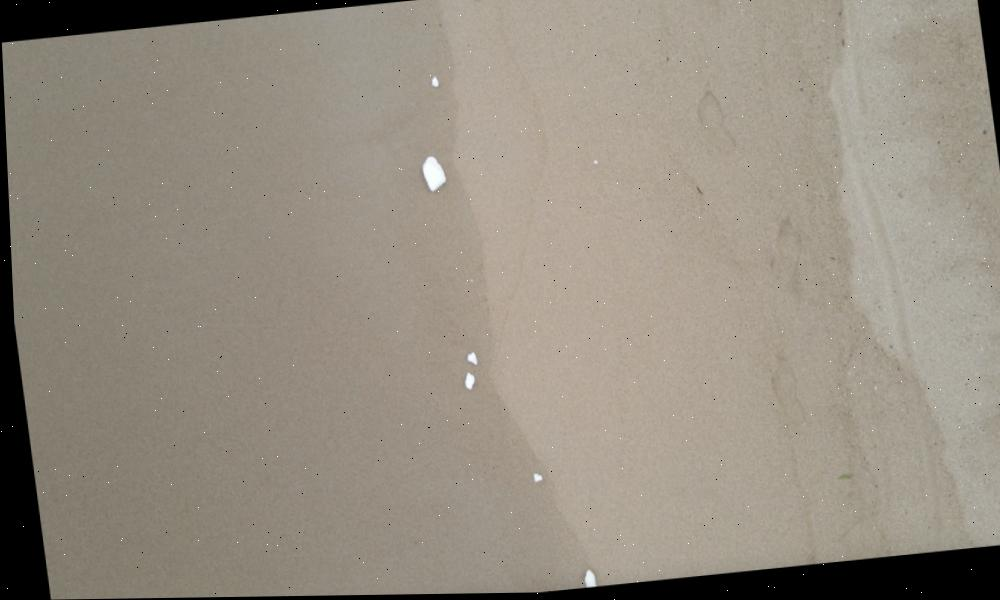styrofoam: (417, 153, 447, 193), (458, 372, 472, 393), (577, 570, 592, 589), (459, 352, 476, 368), (428, 72, 440, 88), (527, 472, 539, 488), (474, 0, 481, 2)
